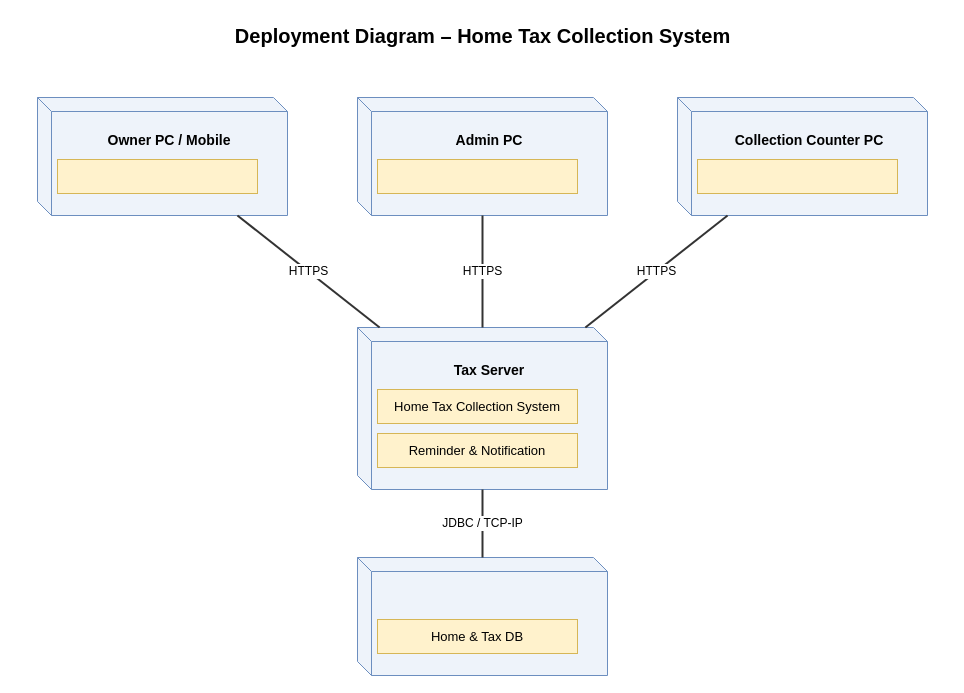
Image size: 964x693. Some labels were removed from this diagram. Each missing label, with the box of its shape:
Admin Console: (376, 158, 578, 194)
Counter App: (696, 158, 898, 194)
Database Server: (356, 556, 608, 676)
Web Browser: (56, 158, 258, 194)
